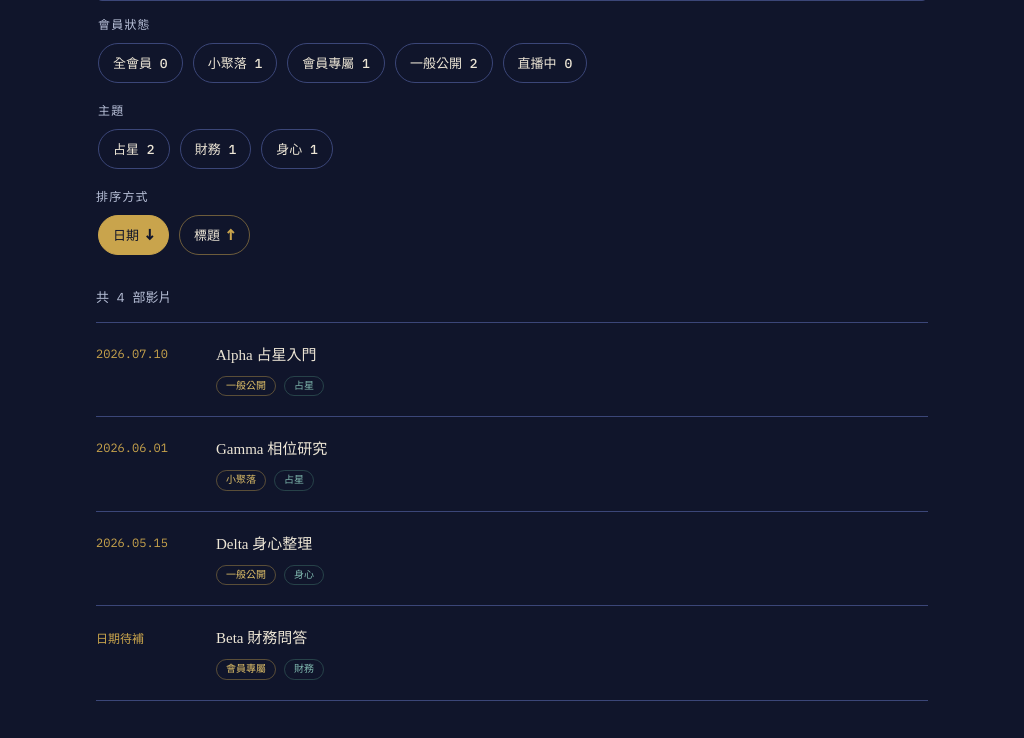
it: App › clicking a video records it and shows it in the recently watched tab
(page scrolled)
Click the link "Alpha 占星入門". click: (266, 355)
box: [216,347,316,363]
(page scrolled)
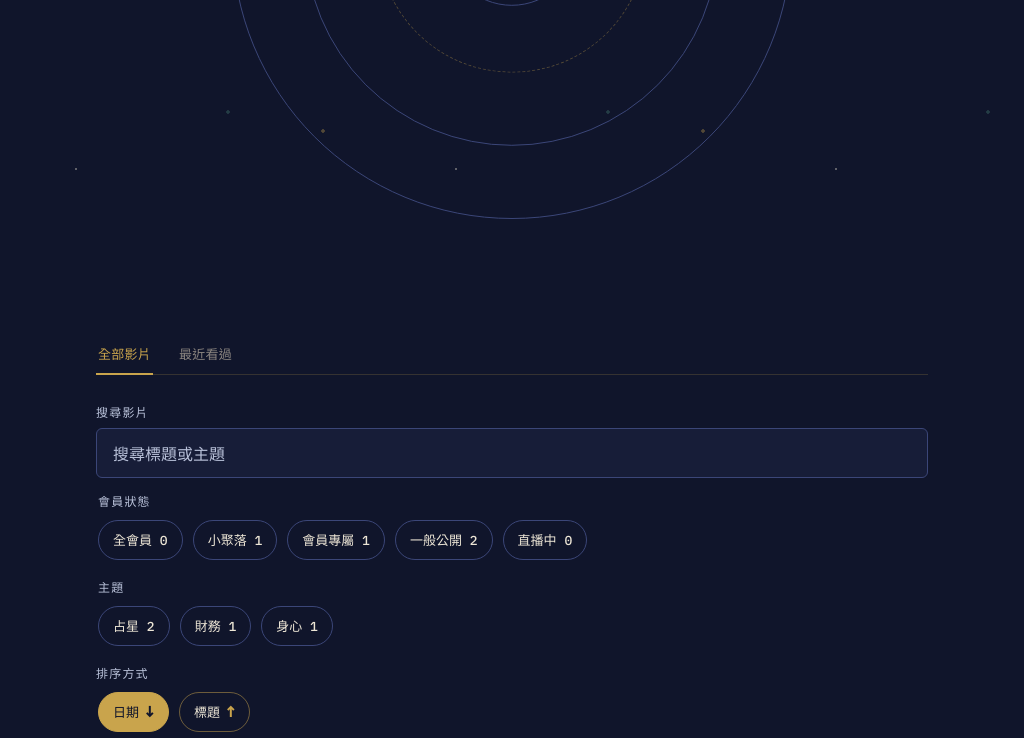
Click the tab "最近看過". click: (206, 355)
box: [177,335,234,375]
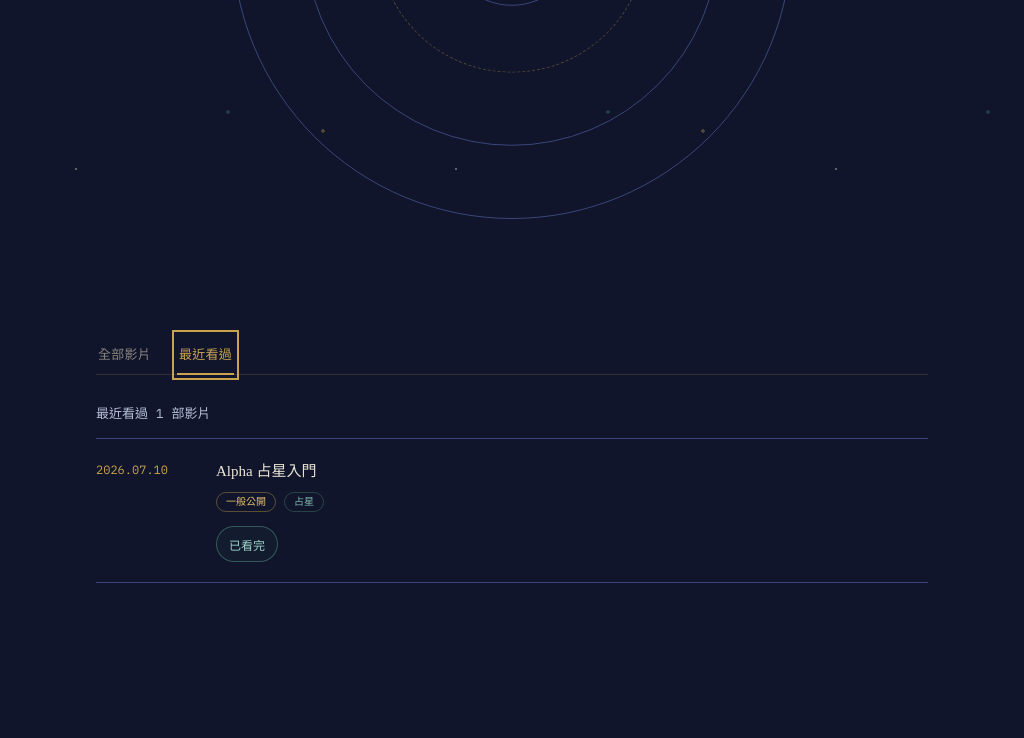
Expected: the link "Alpha 占星入門" is shown, [216,463,316,479]
Result: the text "最近看過 1 部影片" is shown at [96,403,928,439]
Result: the button with aria-label "標示「Alpha 占星入門」為已看完並移除" is shown at [216,526,278,562]
